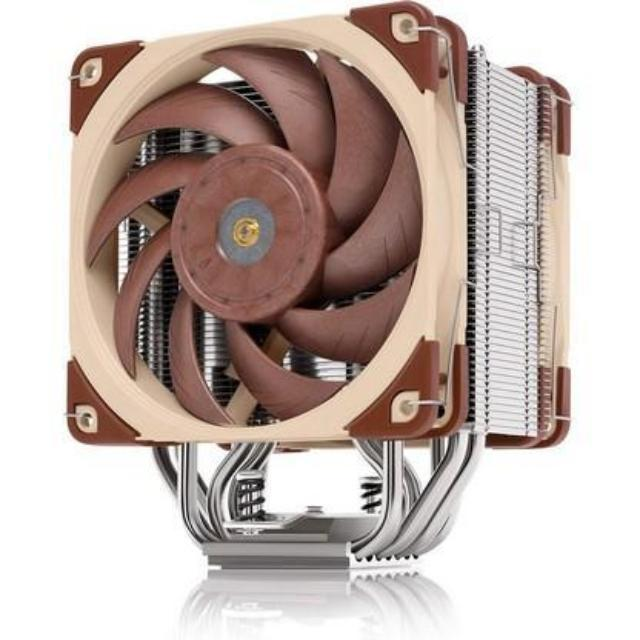CPU_Fan: (65, 0, 572, 586)
